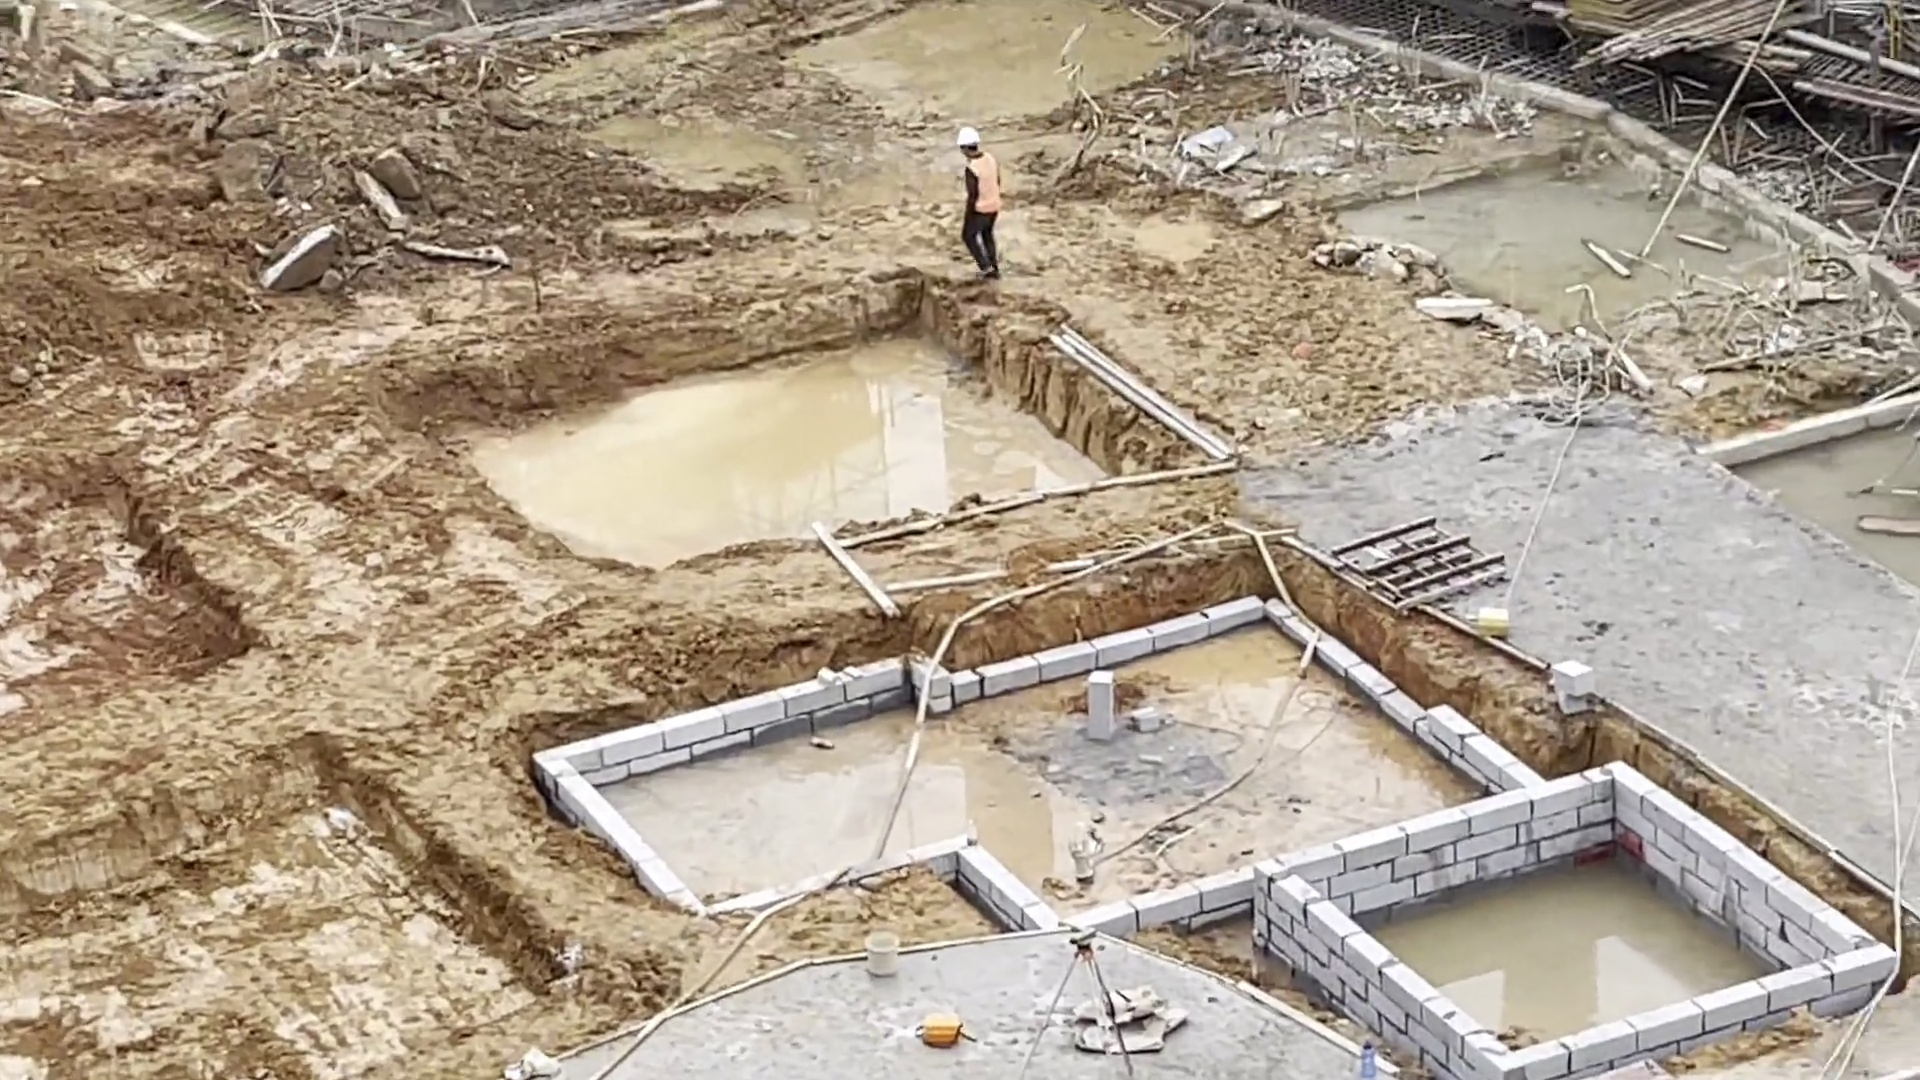helmet: (951, 123, 984, 152)
person: (954, 119, 1007, 279)
vest: (966, 156, 999, 212)
